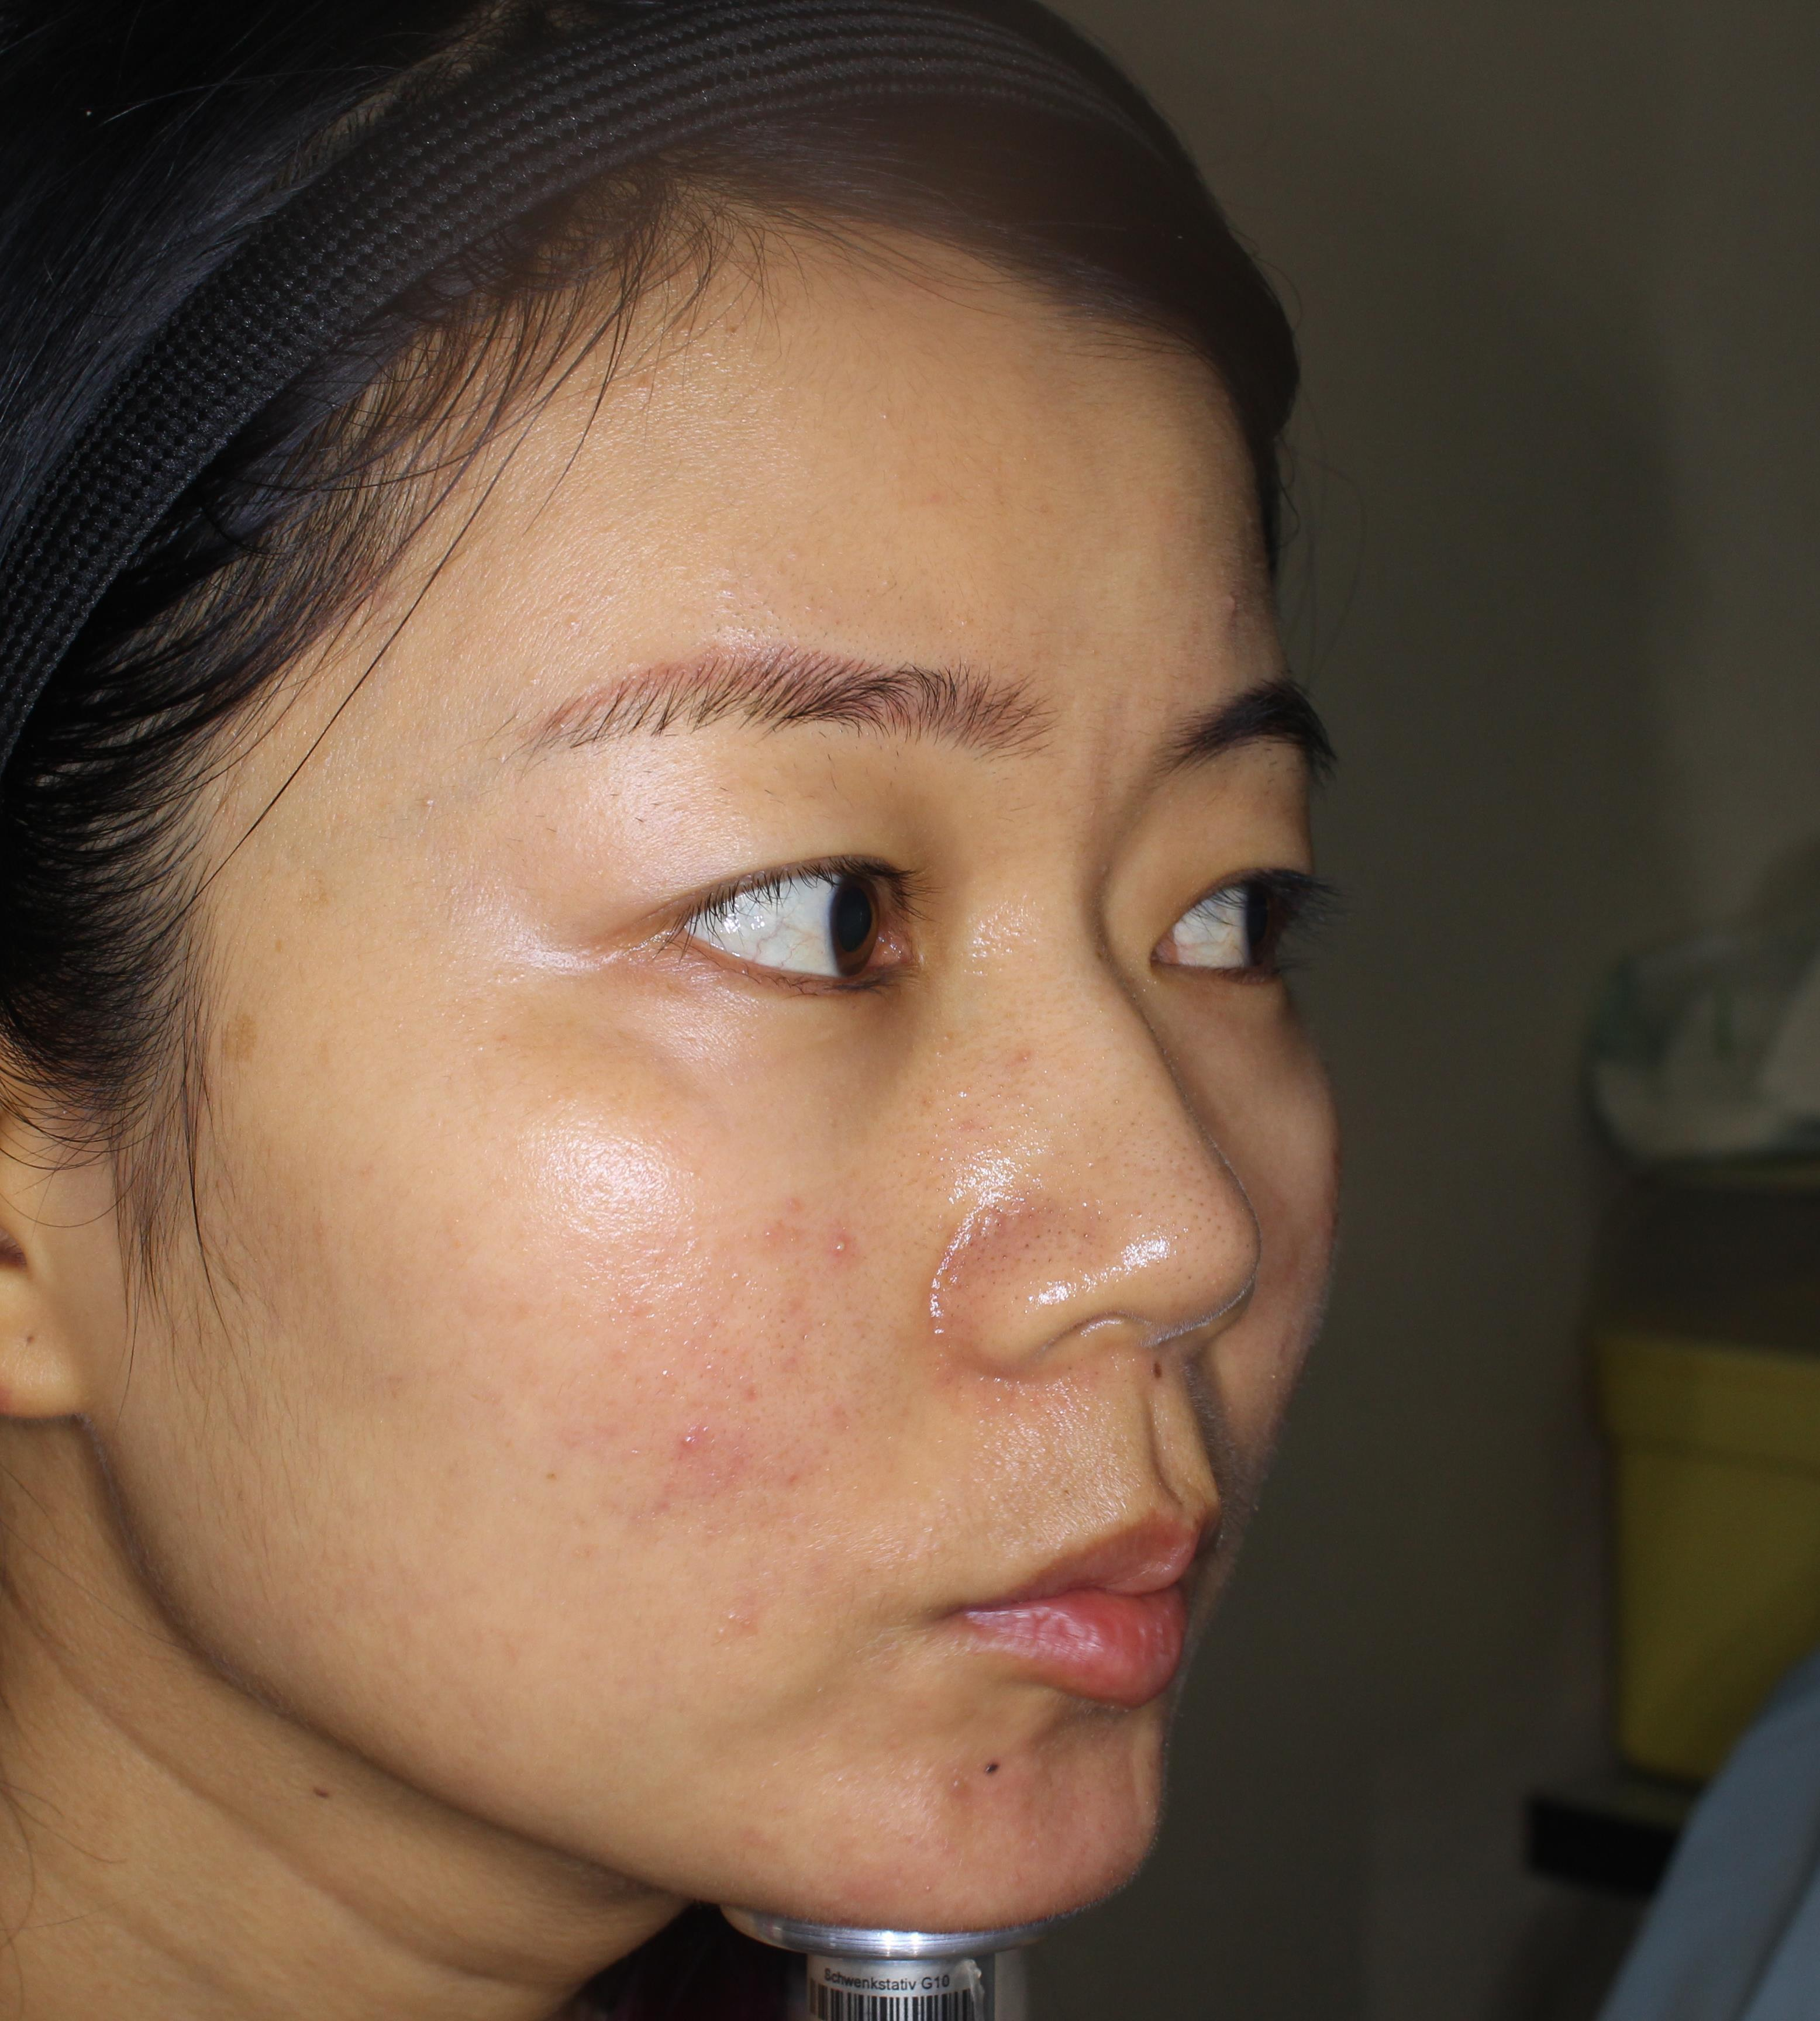fore: (661, 1396, 727, 1500), (799, 1190, 866, 1280)
